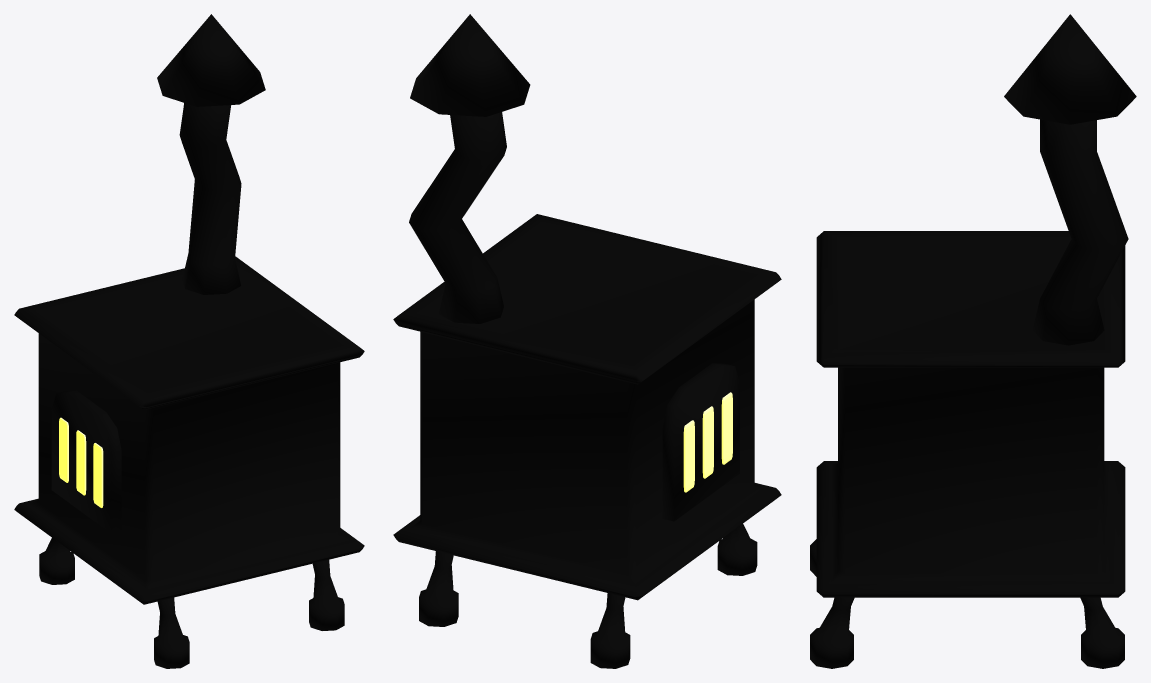
The model's file is Wood_Stove.fbx.
3 views of the same model, side by side, from view 1: azimuth 30°, elevation 25°; view 2: azimuth 150°, elevation 25°; view 3: azimuth 270°, elevation 25° (orthographic). The views are drawn at different scales.
Parts seen in each view (by area): view 1: Cone.001; view 2: Cone.001; view 3: Cone.001.
Boxes of the visible parts, bbox=[...] form: Cone.001: bbox=[14, 14, 364, 668]; Cone.001: bbox=[393, 14, 781, 668]; Cone.001: bbox=[810, 14, 1136, 668].
Size of the model in its own units: 116 by 264 by 123.
